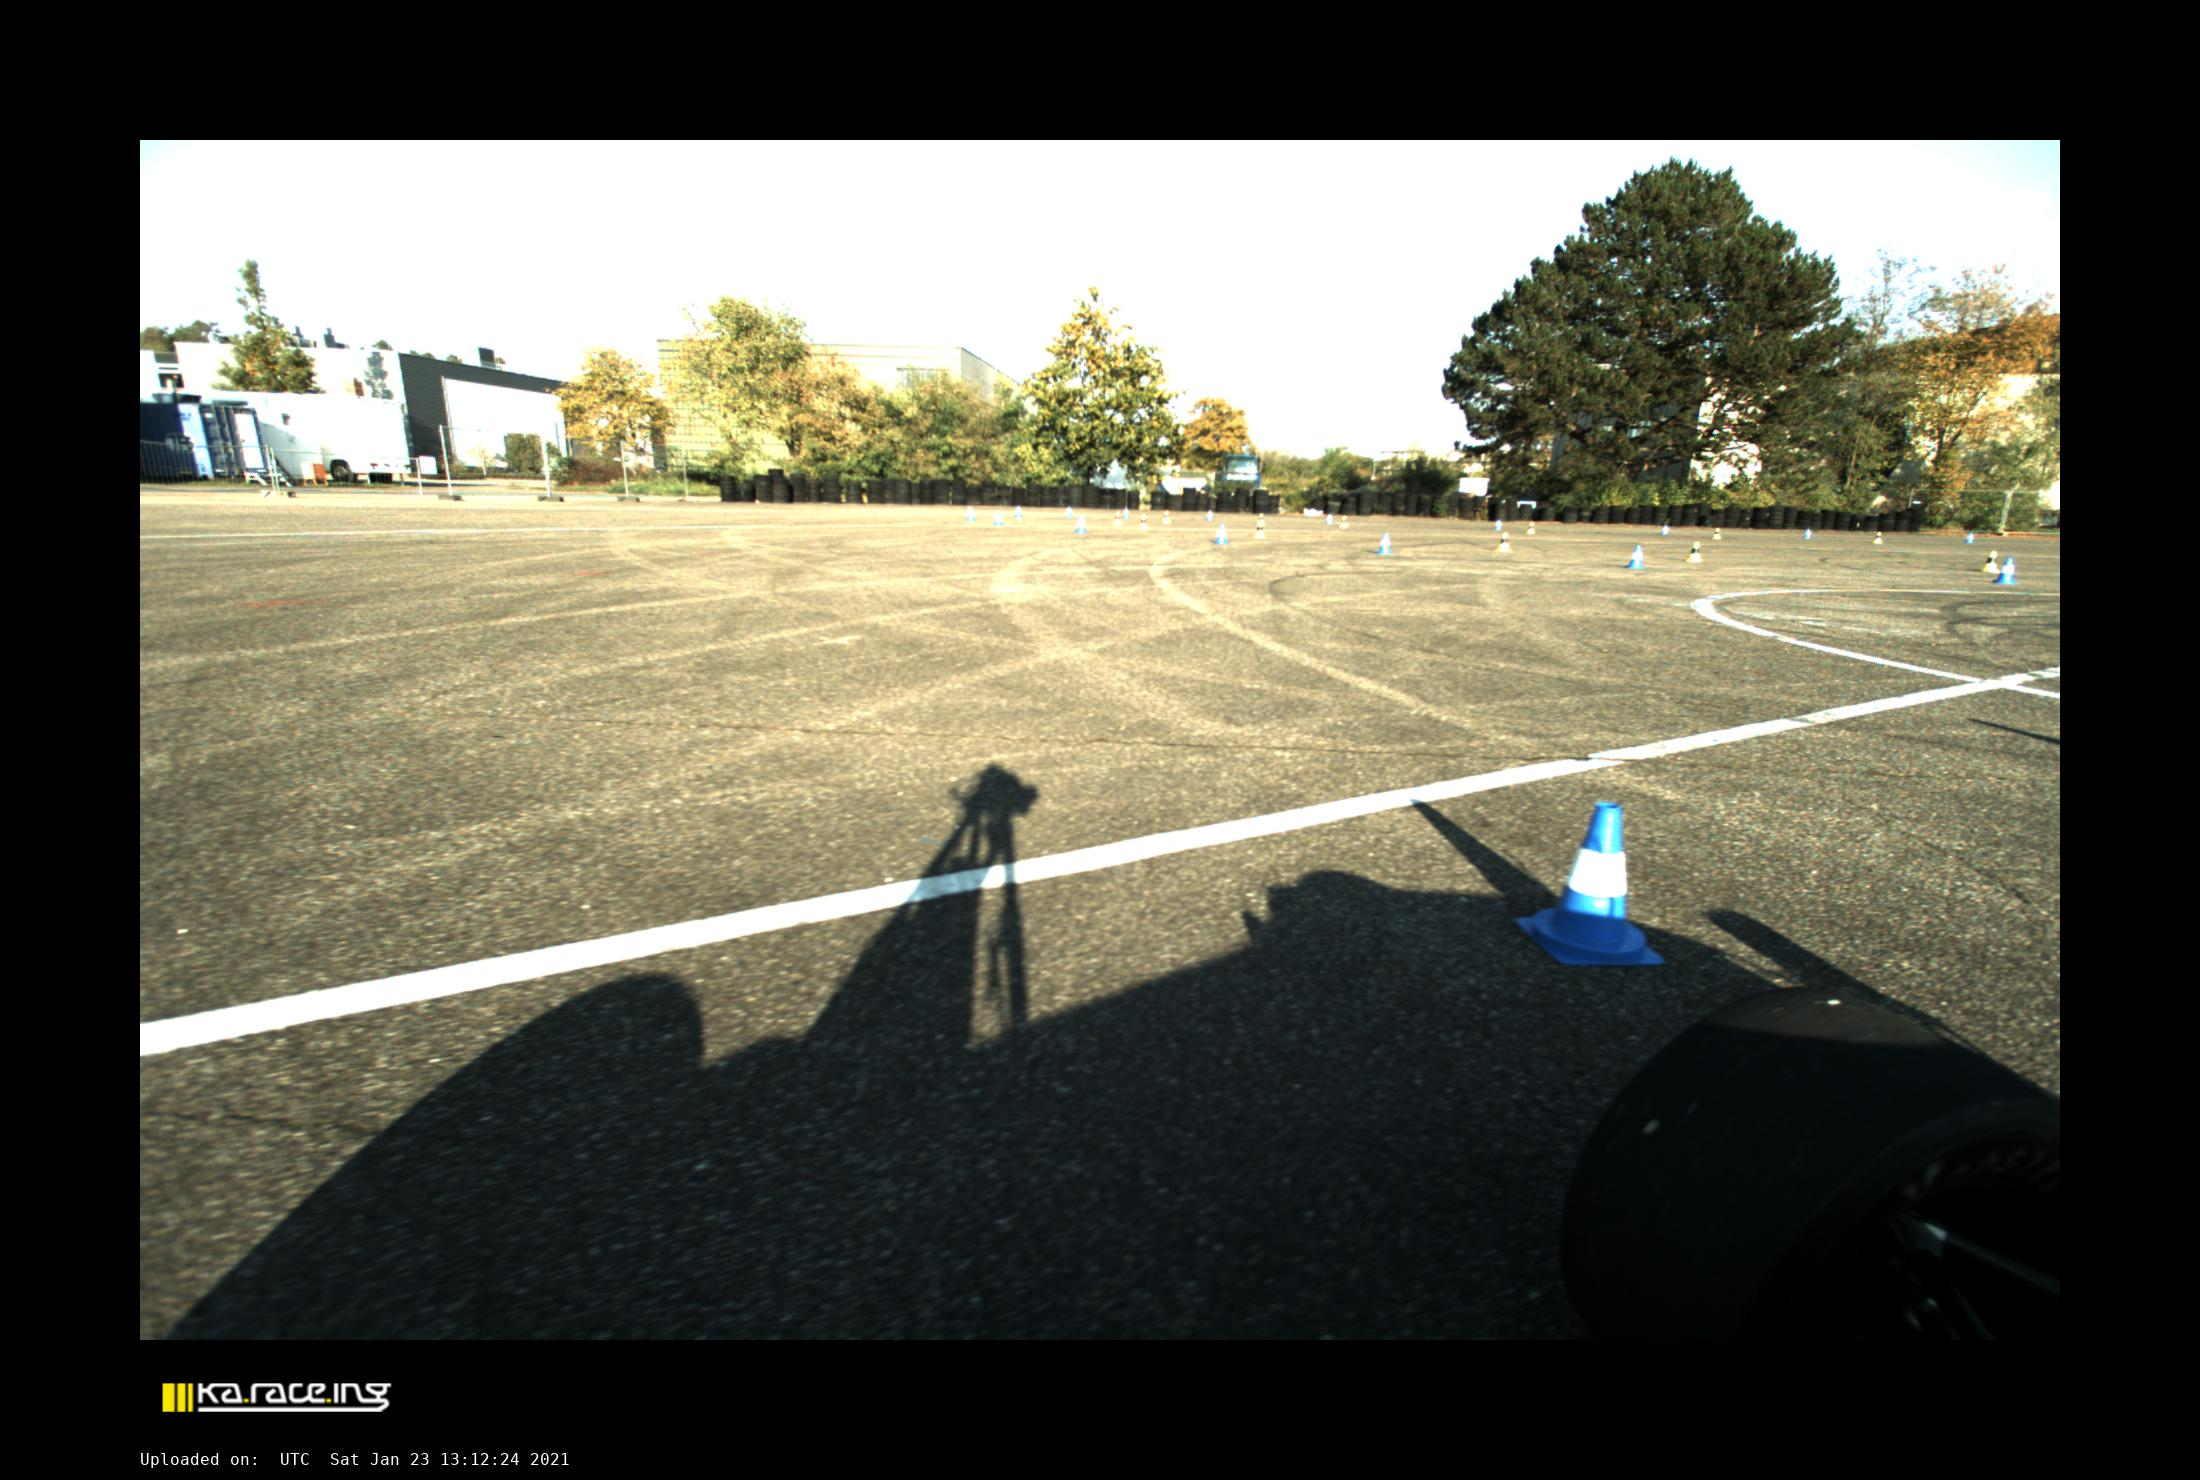blue_cone: (1515, 804, 1665, 965), (1995, 557, 2017, 585), (1627, 545, 1645, 568), (1376, 534, 1392, 553), (1212, 524, 1229, 543), (1074, 515, 1088, 534), (965, 507, 978, 522), (993, 510, 1004, 525), (1964, 532, 1975, 543), (1064, 505, 1074, 519), (1493, 519, 1503, 530), (1325, 510, 1333, 524), (1804, 529, 1814, 538), (1014, 505, 1022, 517), (1121, 507, 1130, 519), (1206, 509, 1214, 520), (1662, 525, 1668, 535)
yellow_cone: (1982, 552, 2000, 572), (1495, 532, 1513, 552), (1686, 542, 1703, 562), (1254, 520, 1268, 538), (1136, 514, 1150, 530), (1112, 510, 1125, 525), (1159, 509, 1171, 524), (1255, 510, 1267, 525), (1524, 520, 1536, 535), (1871, 530, 1883, 545), (1339, 514, 1349, 530), (1713, 527, 1721, 542)
